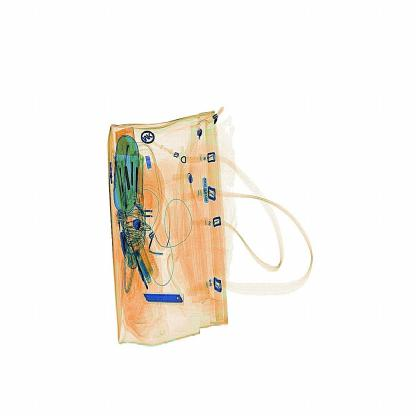pliers: (140, 290, 191, 314)
